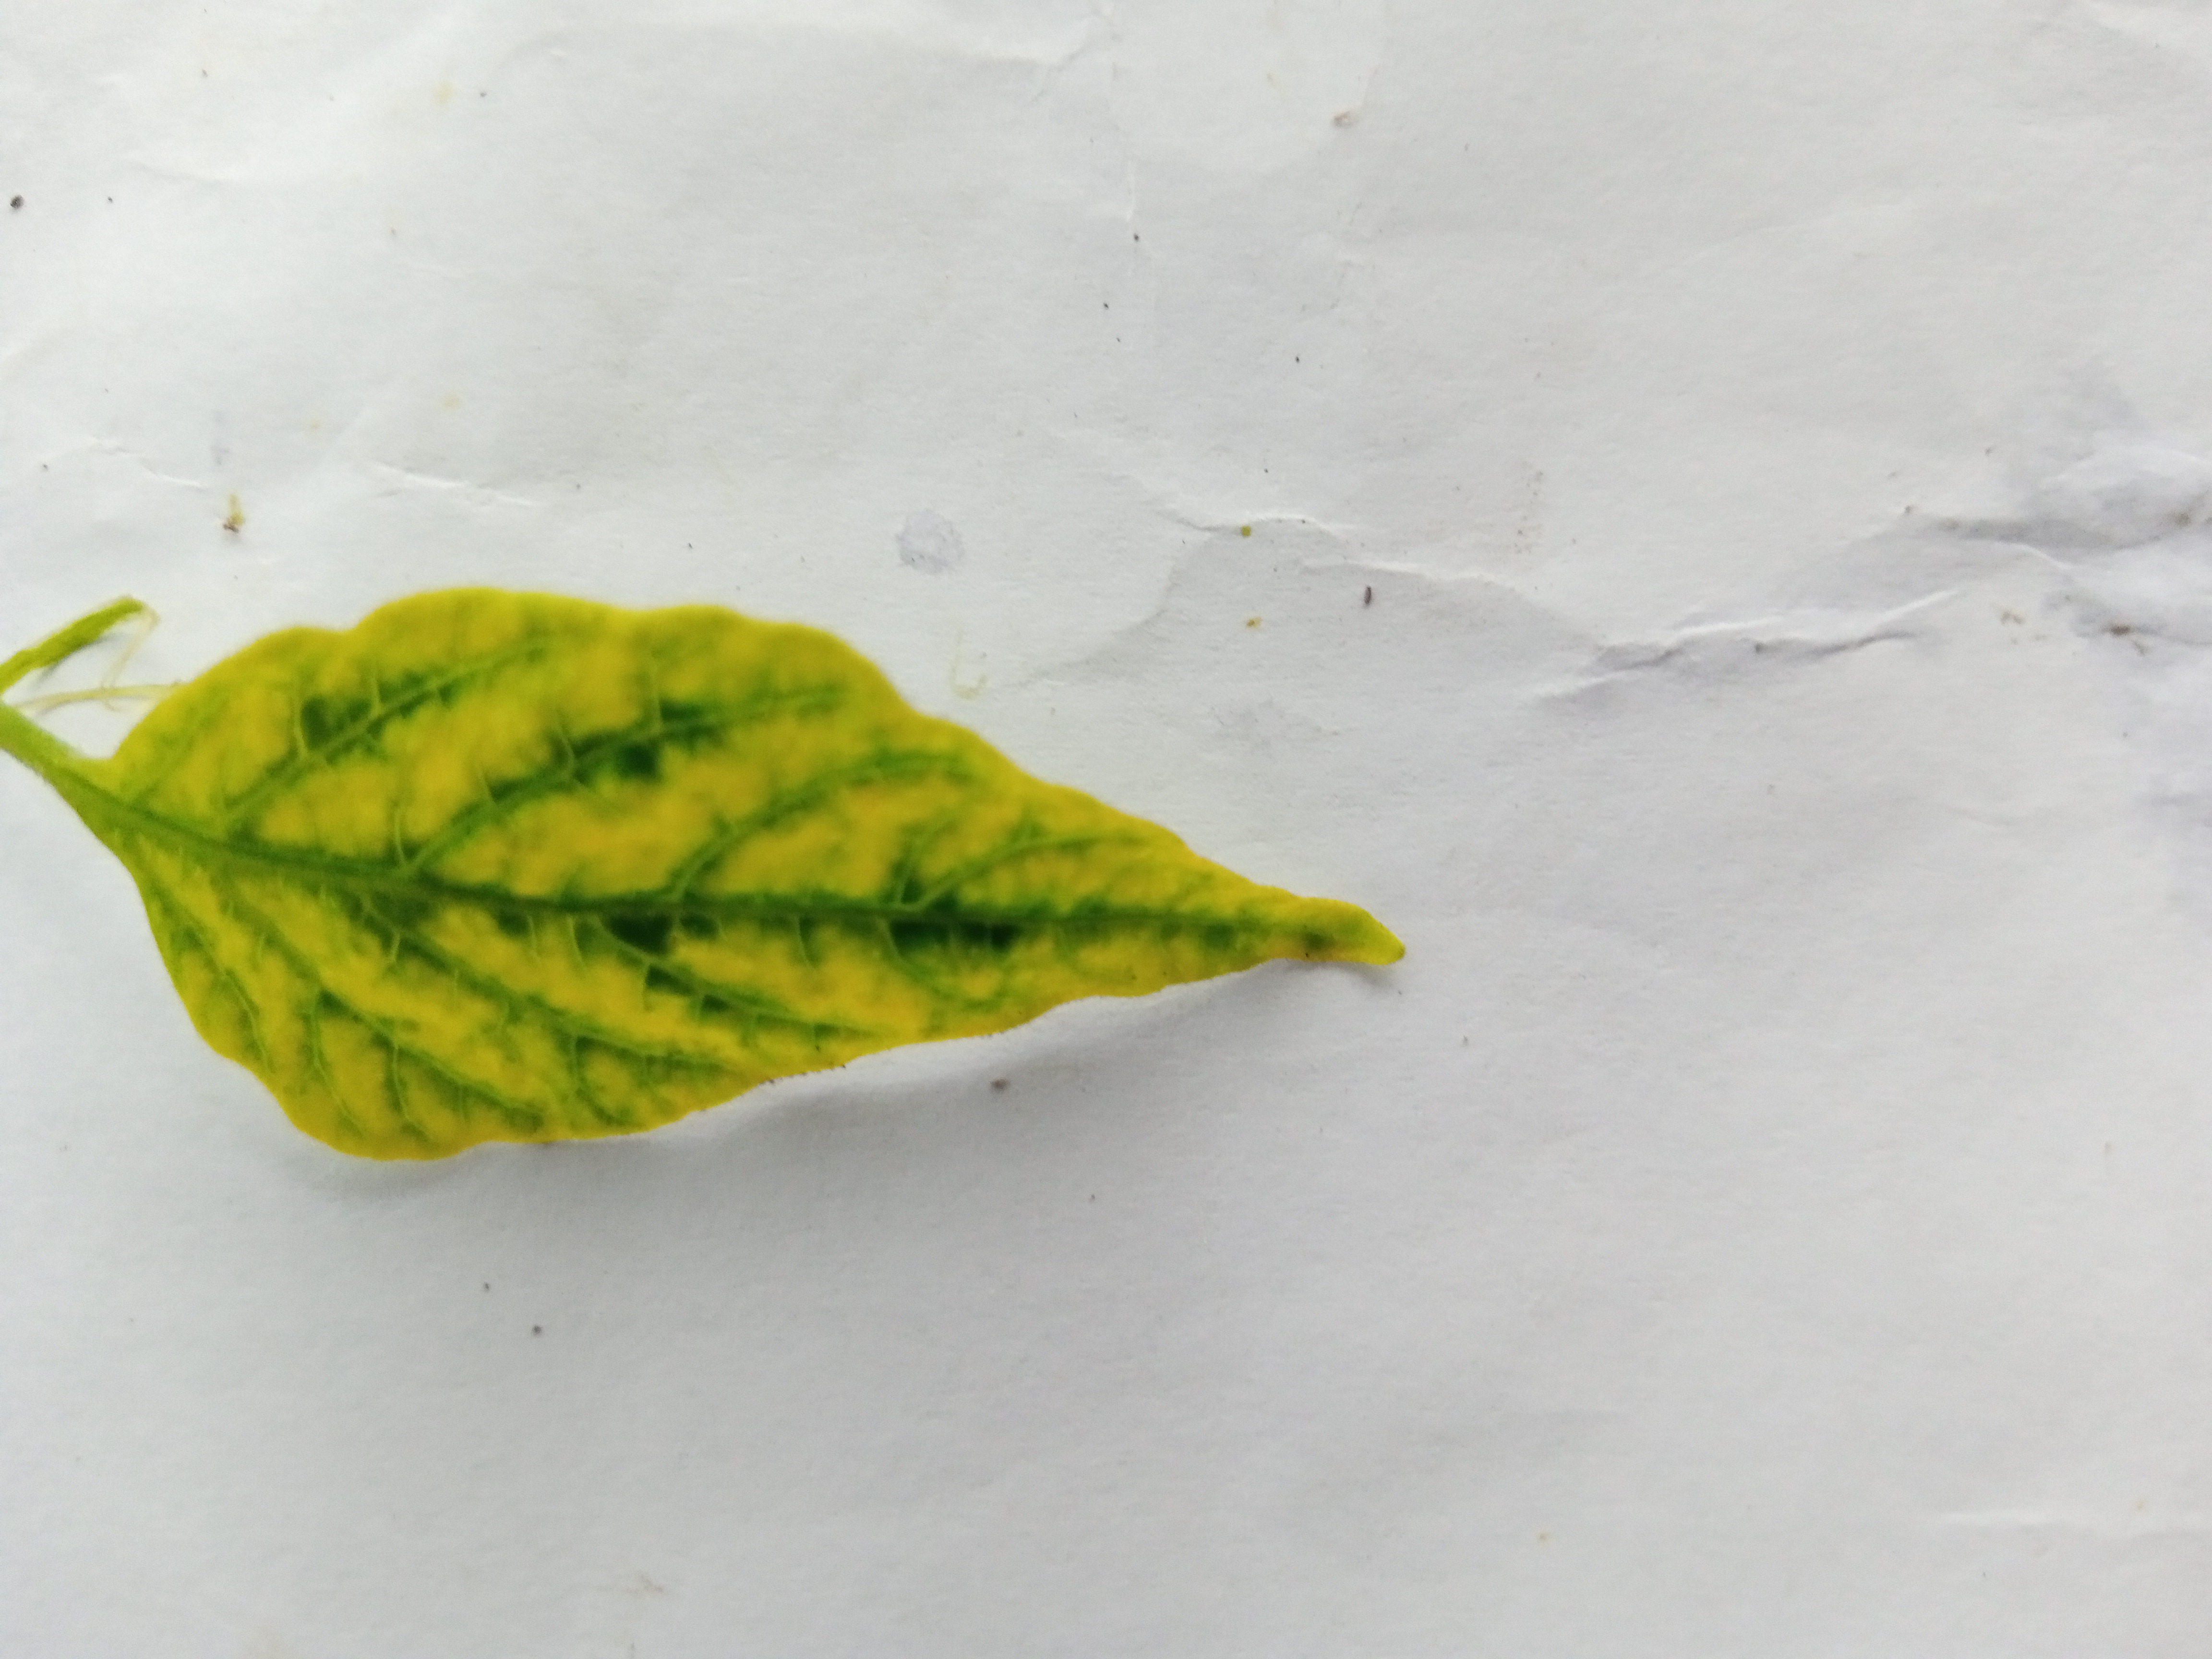Leaf: (35, 528, 1505, 1234)
